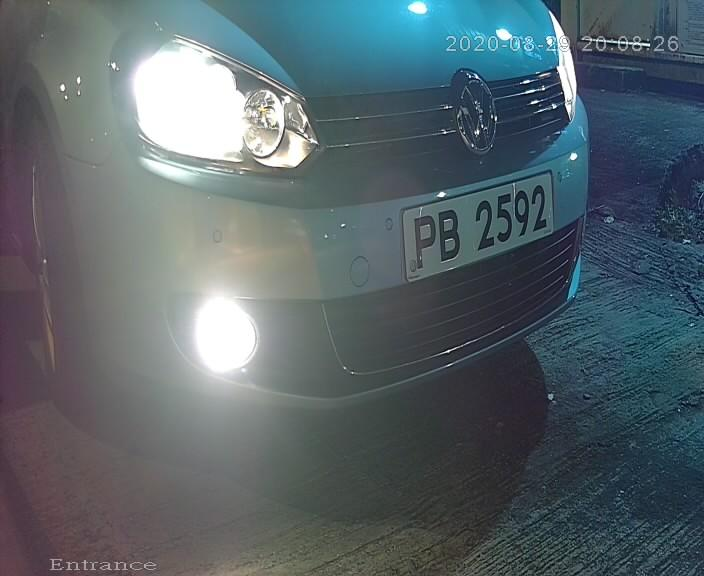License Plate: (384, 160, 554, 289)
